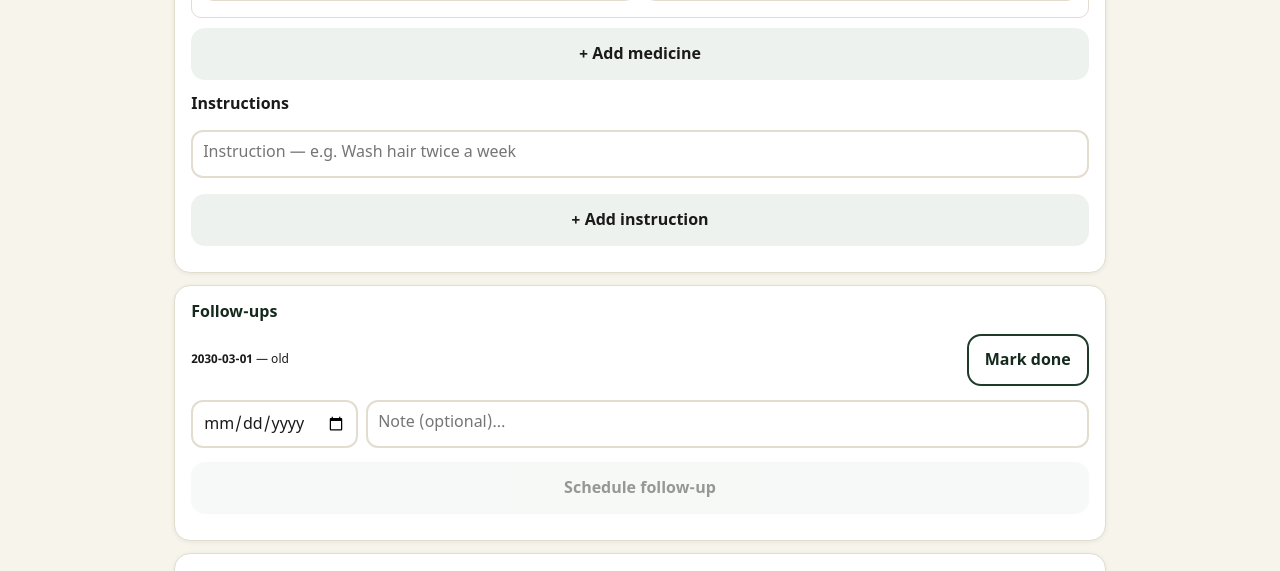
Test: DoctorCase — follow-up scheduling › marks a follow-up done and removes it from the list
(page scrolled)
Expected: the text "2030-03-01" is shown, top-left (191, 352), bottom-right (253, 368)
Step 1. Click the button "Mark done" → x=1028, y=360, box top-left (967, 334), bottom-right (1089, 386)
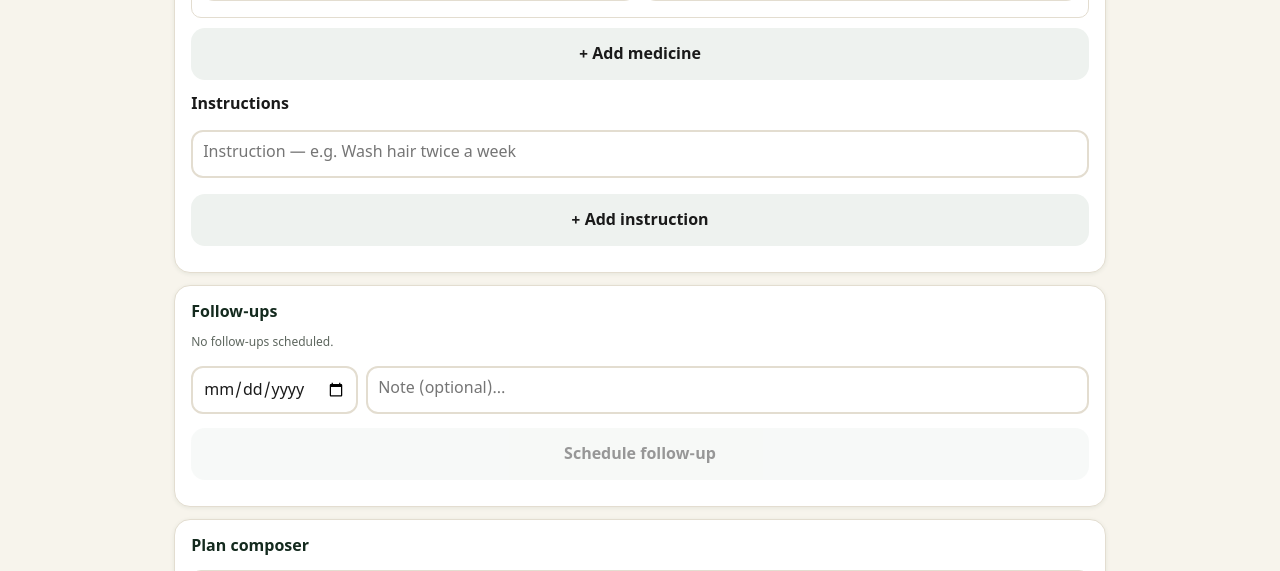
Expected: the text "2030-03-01" is gone
